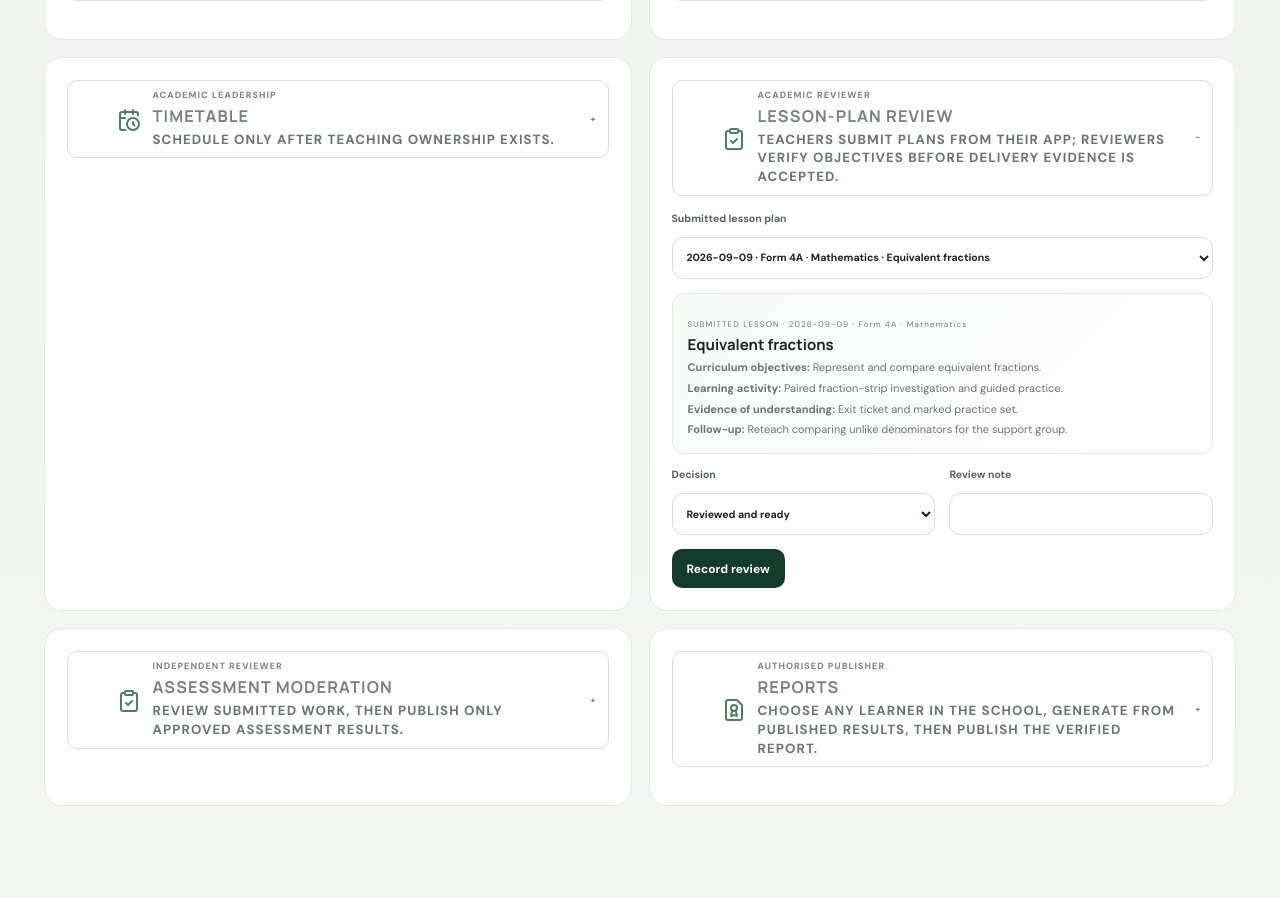
Test: Academic task journey › shows lesson evidence before an academic review and requires a correction reason
(page scrolled)
Expected: the text "Equivalent fractions" is shown, [688, 334, 834, 355]
Expected: the text "Paired fraction-strip investigation" is shown, [784, 381, 1063, 395]
Select "Return for correction" in the dropdown labelled "Decision" at [804, 514], box [672, 493, 936, 535]
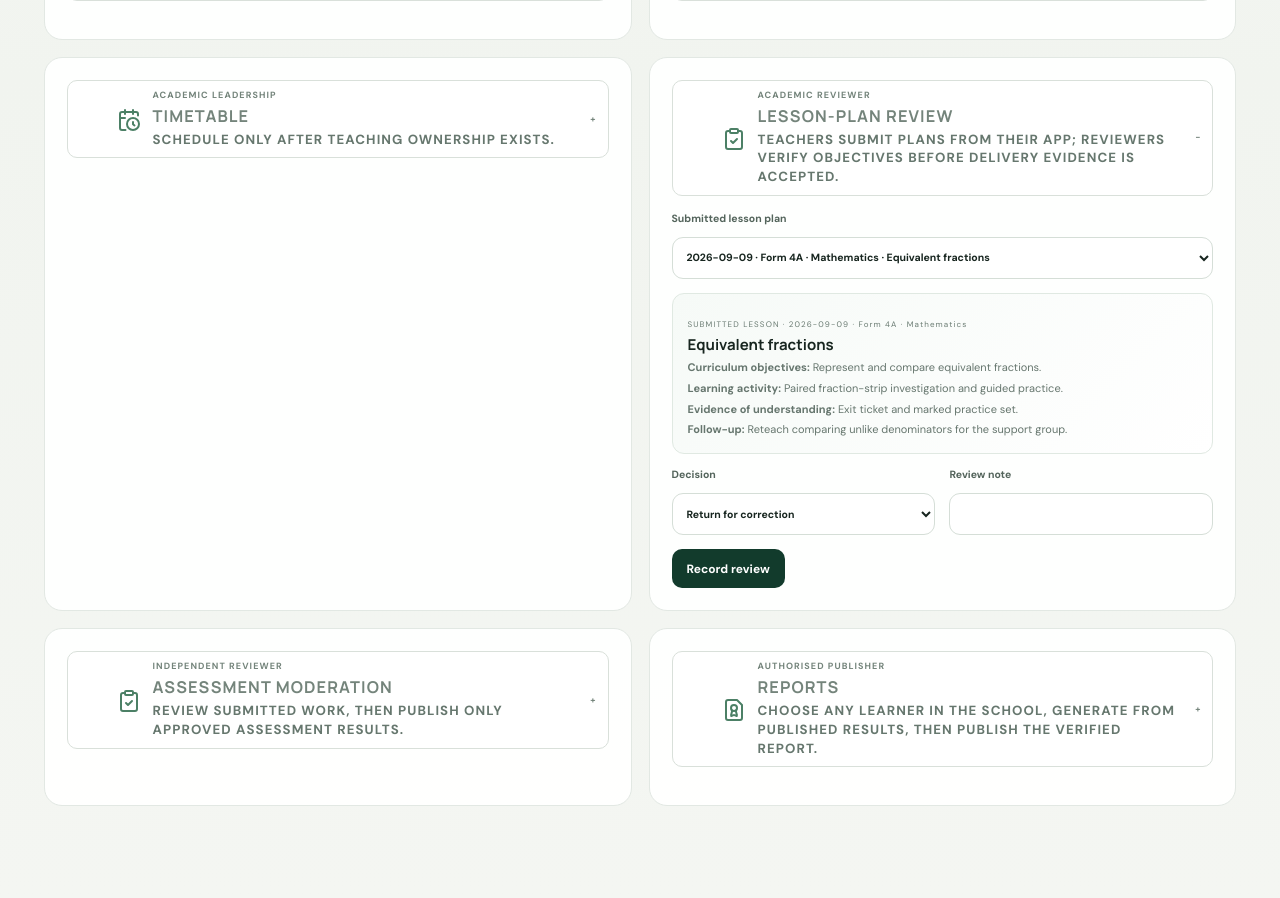
Click the button "Record review" at [728, 569], box [672, 549, 785, 588]
(page scrolled)
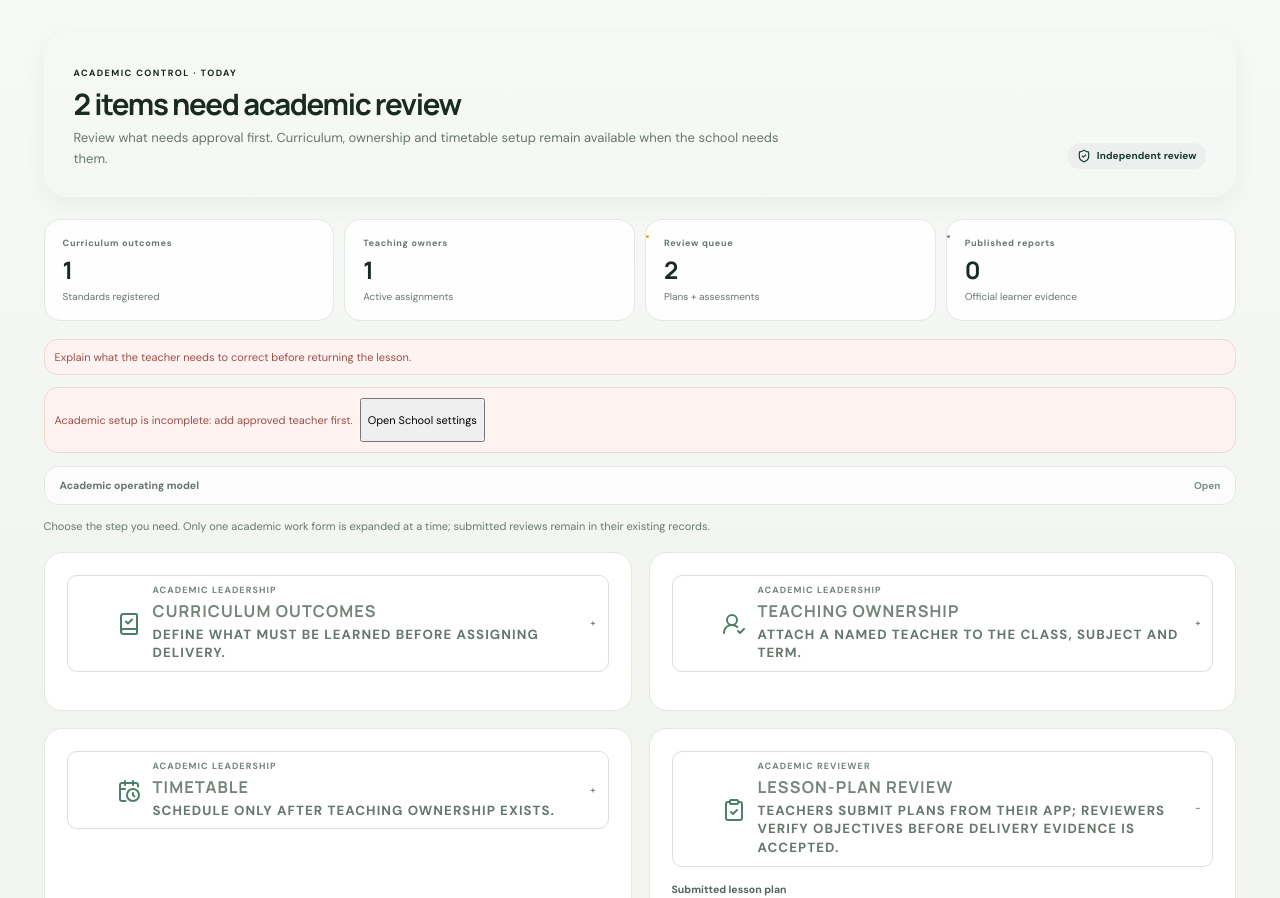
Expected: the message "Explain what the teacher needs to correct before returning the lesson." is shown, [44, 339, 1236, 375]
